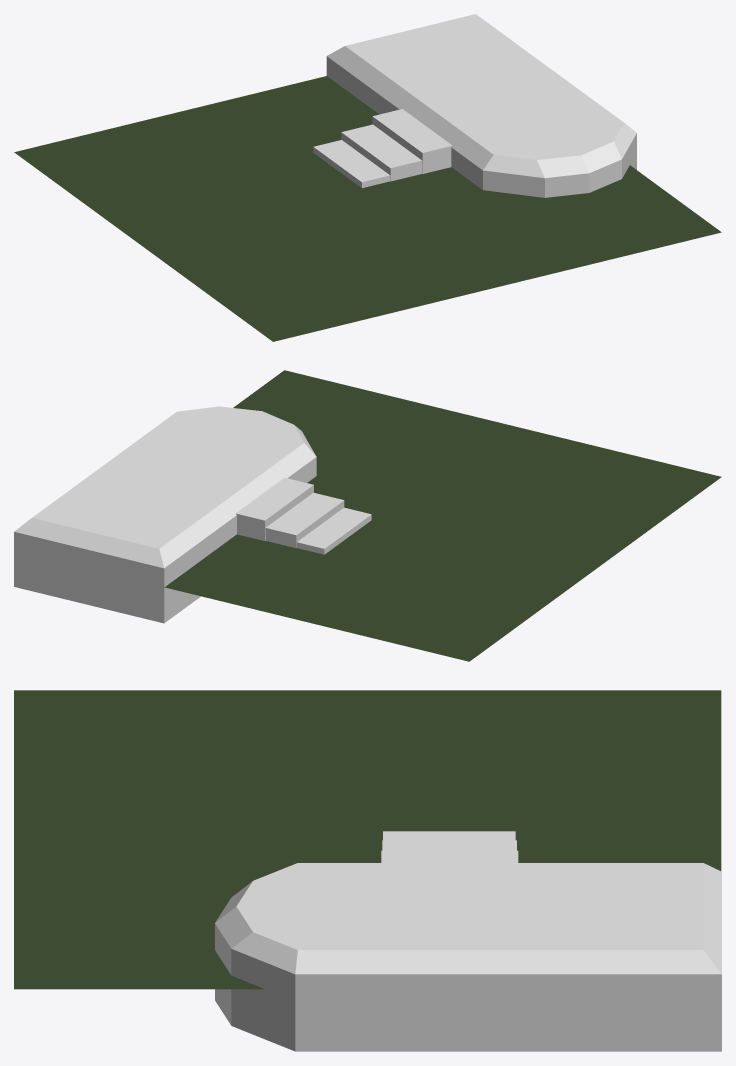
Rendered from SM_GroundPlaneRaised.fbx.
The picture shows the model from 3 angles, top to bottom: view 1: azimuth 30°, elevation 25°; view 2: azimuth 150°, elevation 25°; view 3: azimuth 270°, elevation 25°; orthographic projection. The views are drawn at different scales.
Parts seen in each view (by area): view 1: SM_GroundPlaneRaised; view 2: SM_GroundPlaneRaised; view 3: SM_GroundPlaneRaised.
Part boxes in pixels (<box>): SM_GroundPlaneRaised: <box>14,14,721,341</box>; SM_GroundPlaneRaised: <box>14,370,721,661</box>; SM_GroundPlaneRaised: <box>14,690,721,1051</box>.
Size of the model in its own units: 6.06 by 5.83 by 0.8526.
